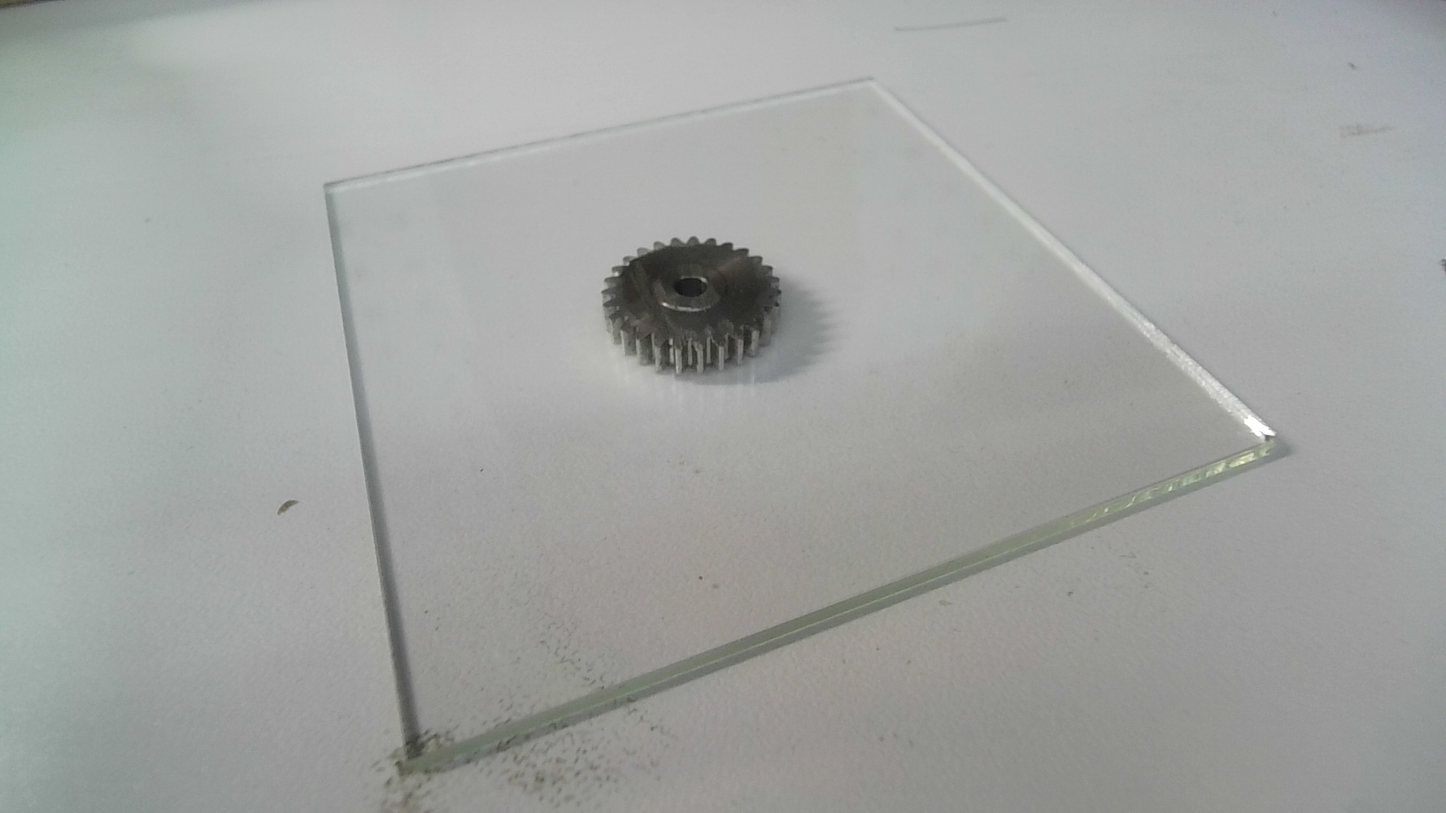gear: (598, 234, 785, 379)
